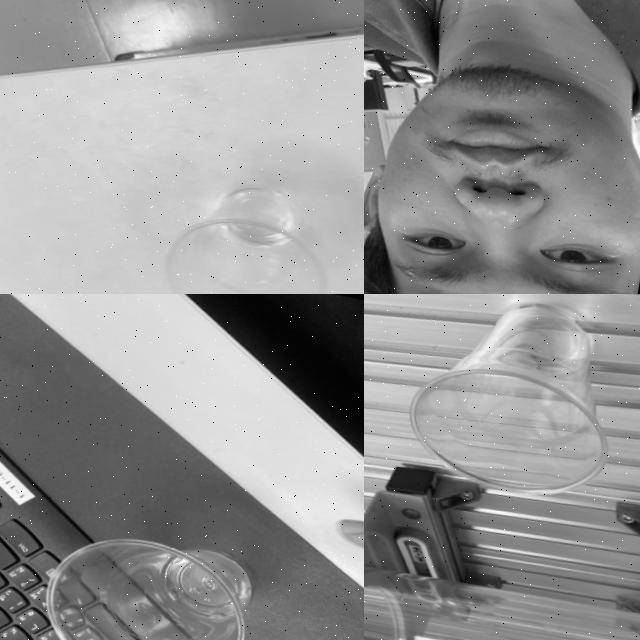glass: (388, 294, 640, 518), (23, 507, 268, 640), (143, 156, 353, 294)
